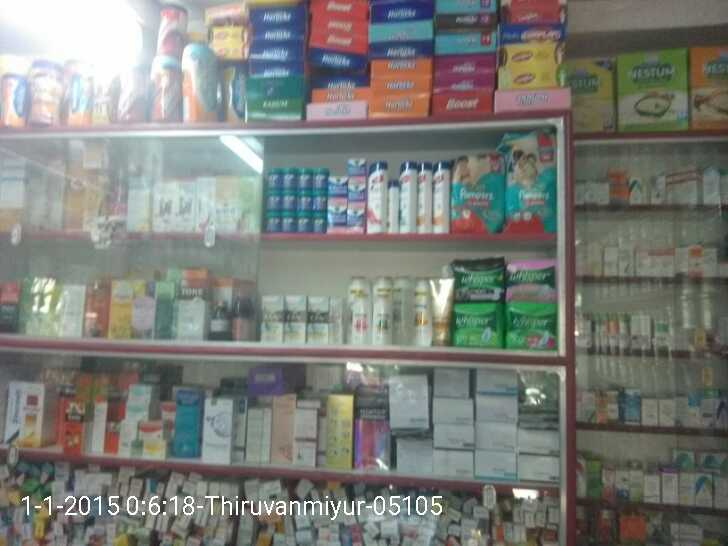vicks: (263, 146, 362, 233)
